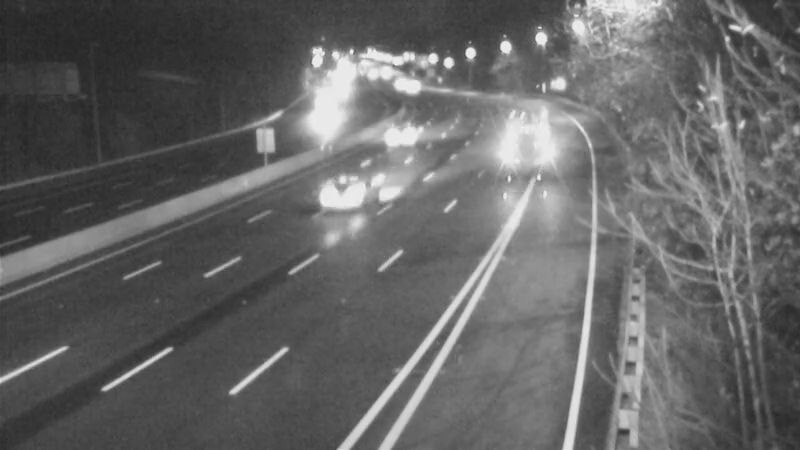vehicle: (310, 155, 390, 235), (346, 52, 396, 102), (376, 60, 426, 110), (385, 66, 435, 116), (499, 107, 549, 157), (382, 110, 432, 160), (299, 82, 349, 132)
